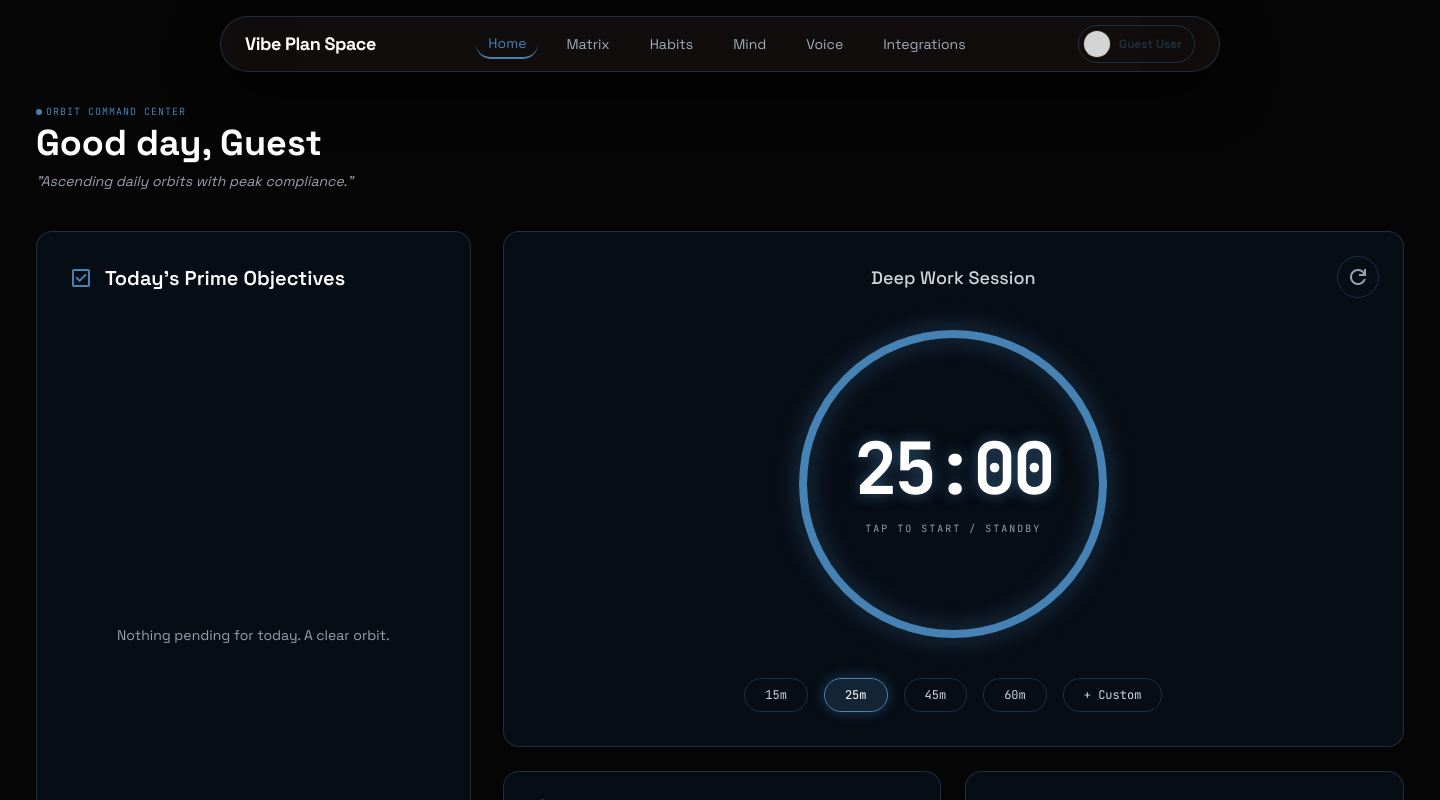
Test case: Vibe Plan Space Application › switches to the Matrix tab when clicked
This screenshot has width=1440, height=800.
Click the button "Matrix" at (588, 44), box [554, 30, 622, 58]
(page scrolled)
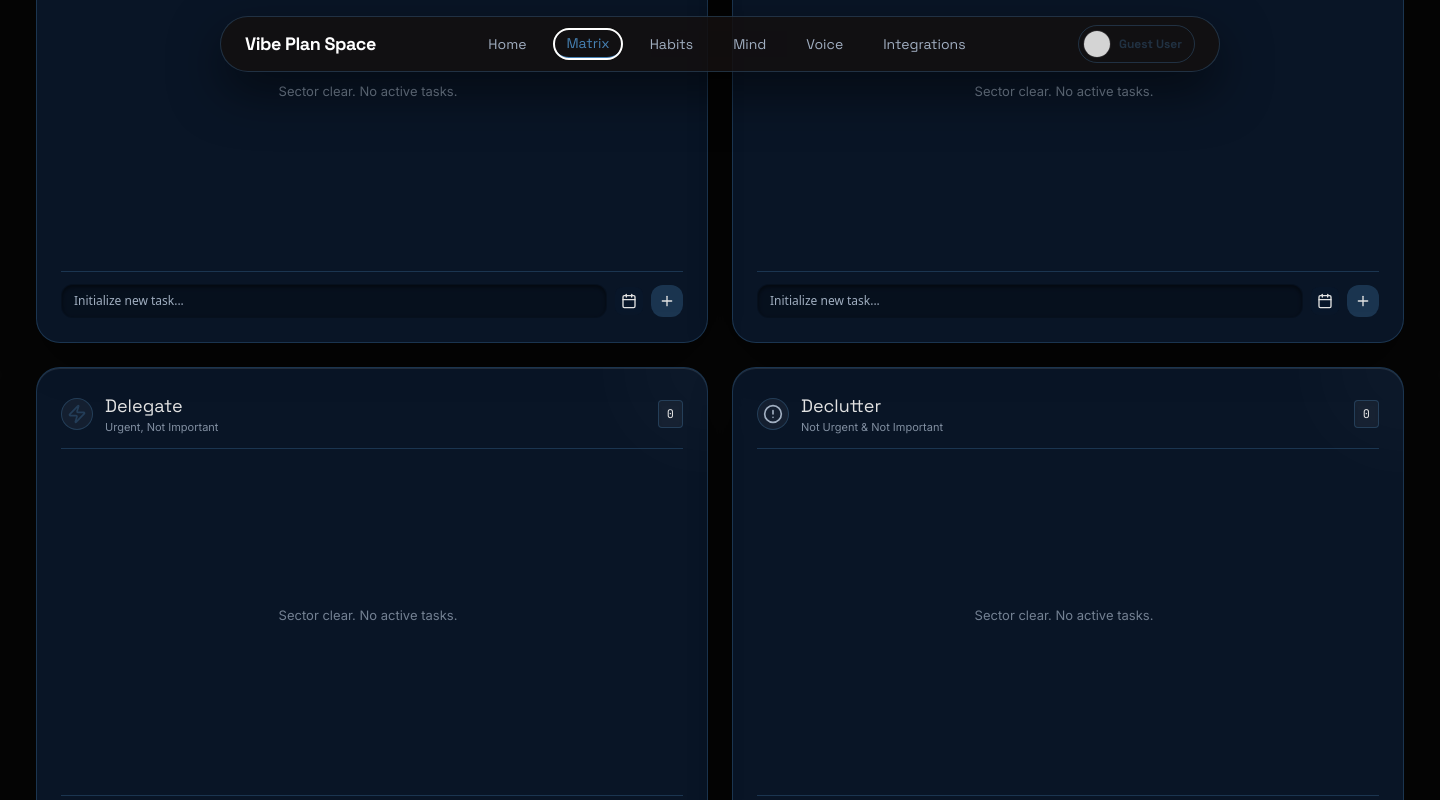
Now the heading "Delegate" is shown, box [105, 394, 183, 417]
Now the heading "Declutter" is shown, box [801, 394, 881, 417]
